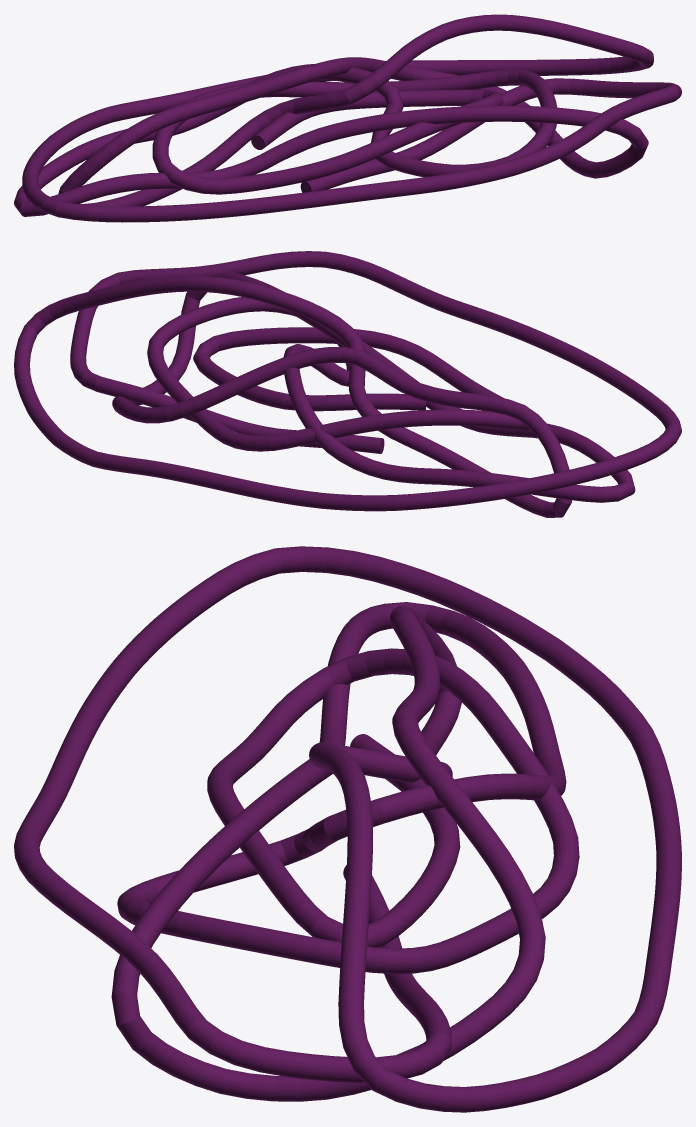
File: Dna nucleoide.glb
3 views of the same model, one above another, from view 1: azimuth 30°, elevation 25°; view 2: azimuth 150°, elevation 25°; view 3: azimuth 270°, elevation 25° (orthographic). The views are drawn at different scales.
Visible parts, largest first — view 1: Cylinder; view 2: Cylinder; view 3: Cylinder.
Boxes of the visible parts, box(x1,y1,x2,y2) form: Cylinder: box(14, 14, 681, 222); Cylinder: box(14, 251, 681, 517); Cylinder: box(14, 546, 681, 1112).
Size of the model in its own units: 40.05 by 9.34 by 22.94.
